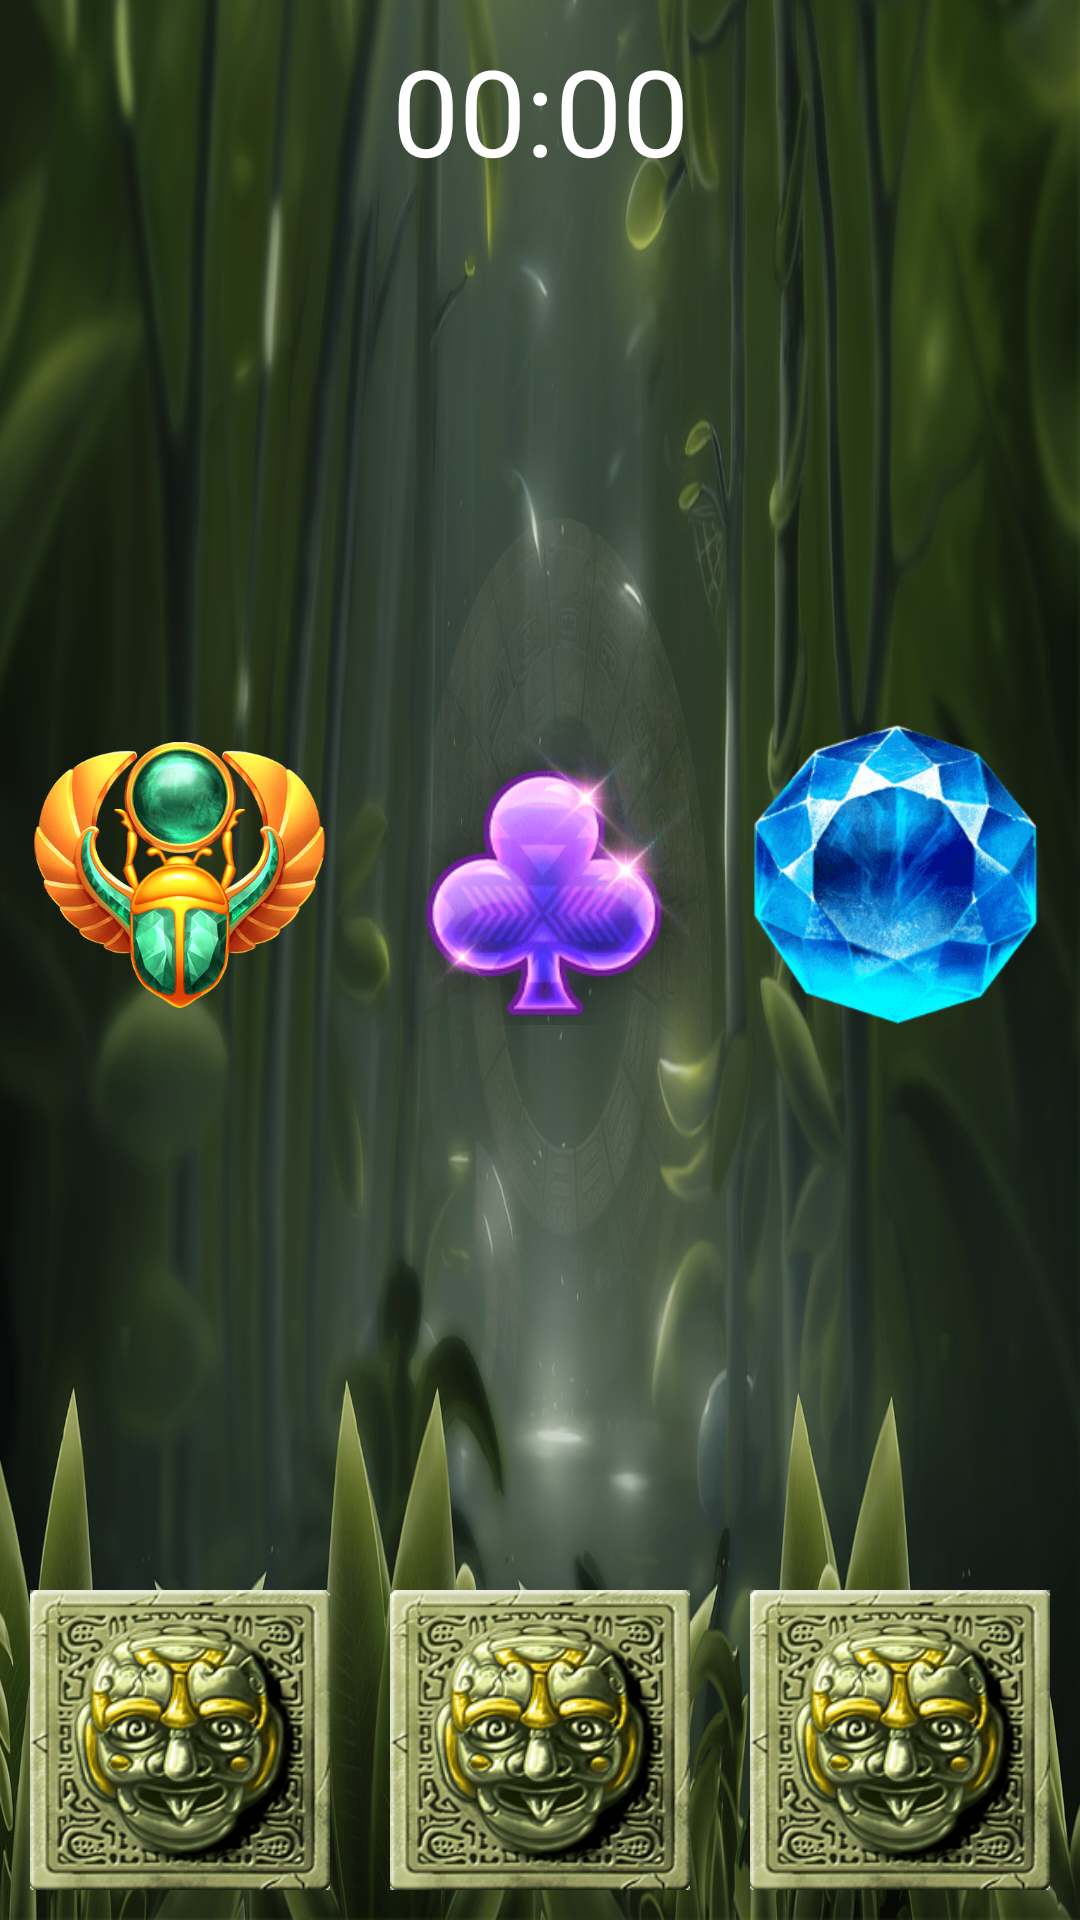

Where to tap for icons on this 1080 × 1920 app screen, as point (x, y):
diamond: point (900, 875)
violet: point (545, 877)
